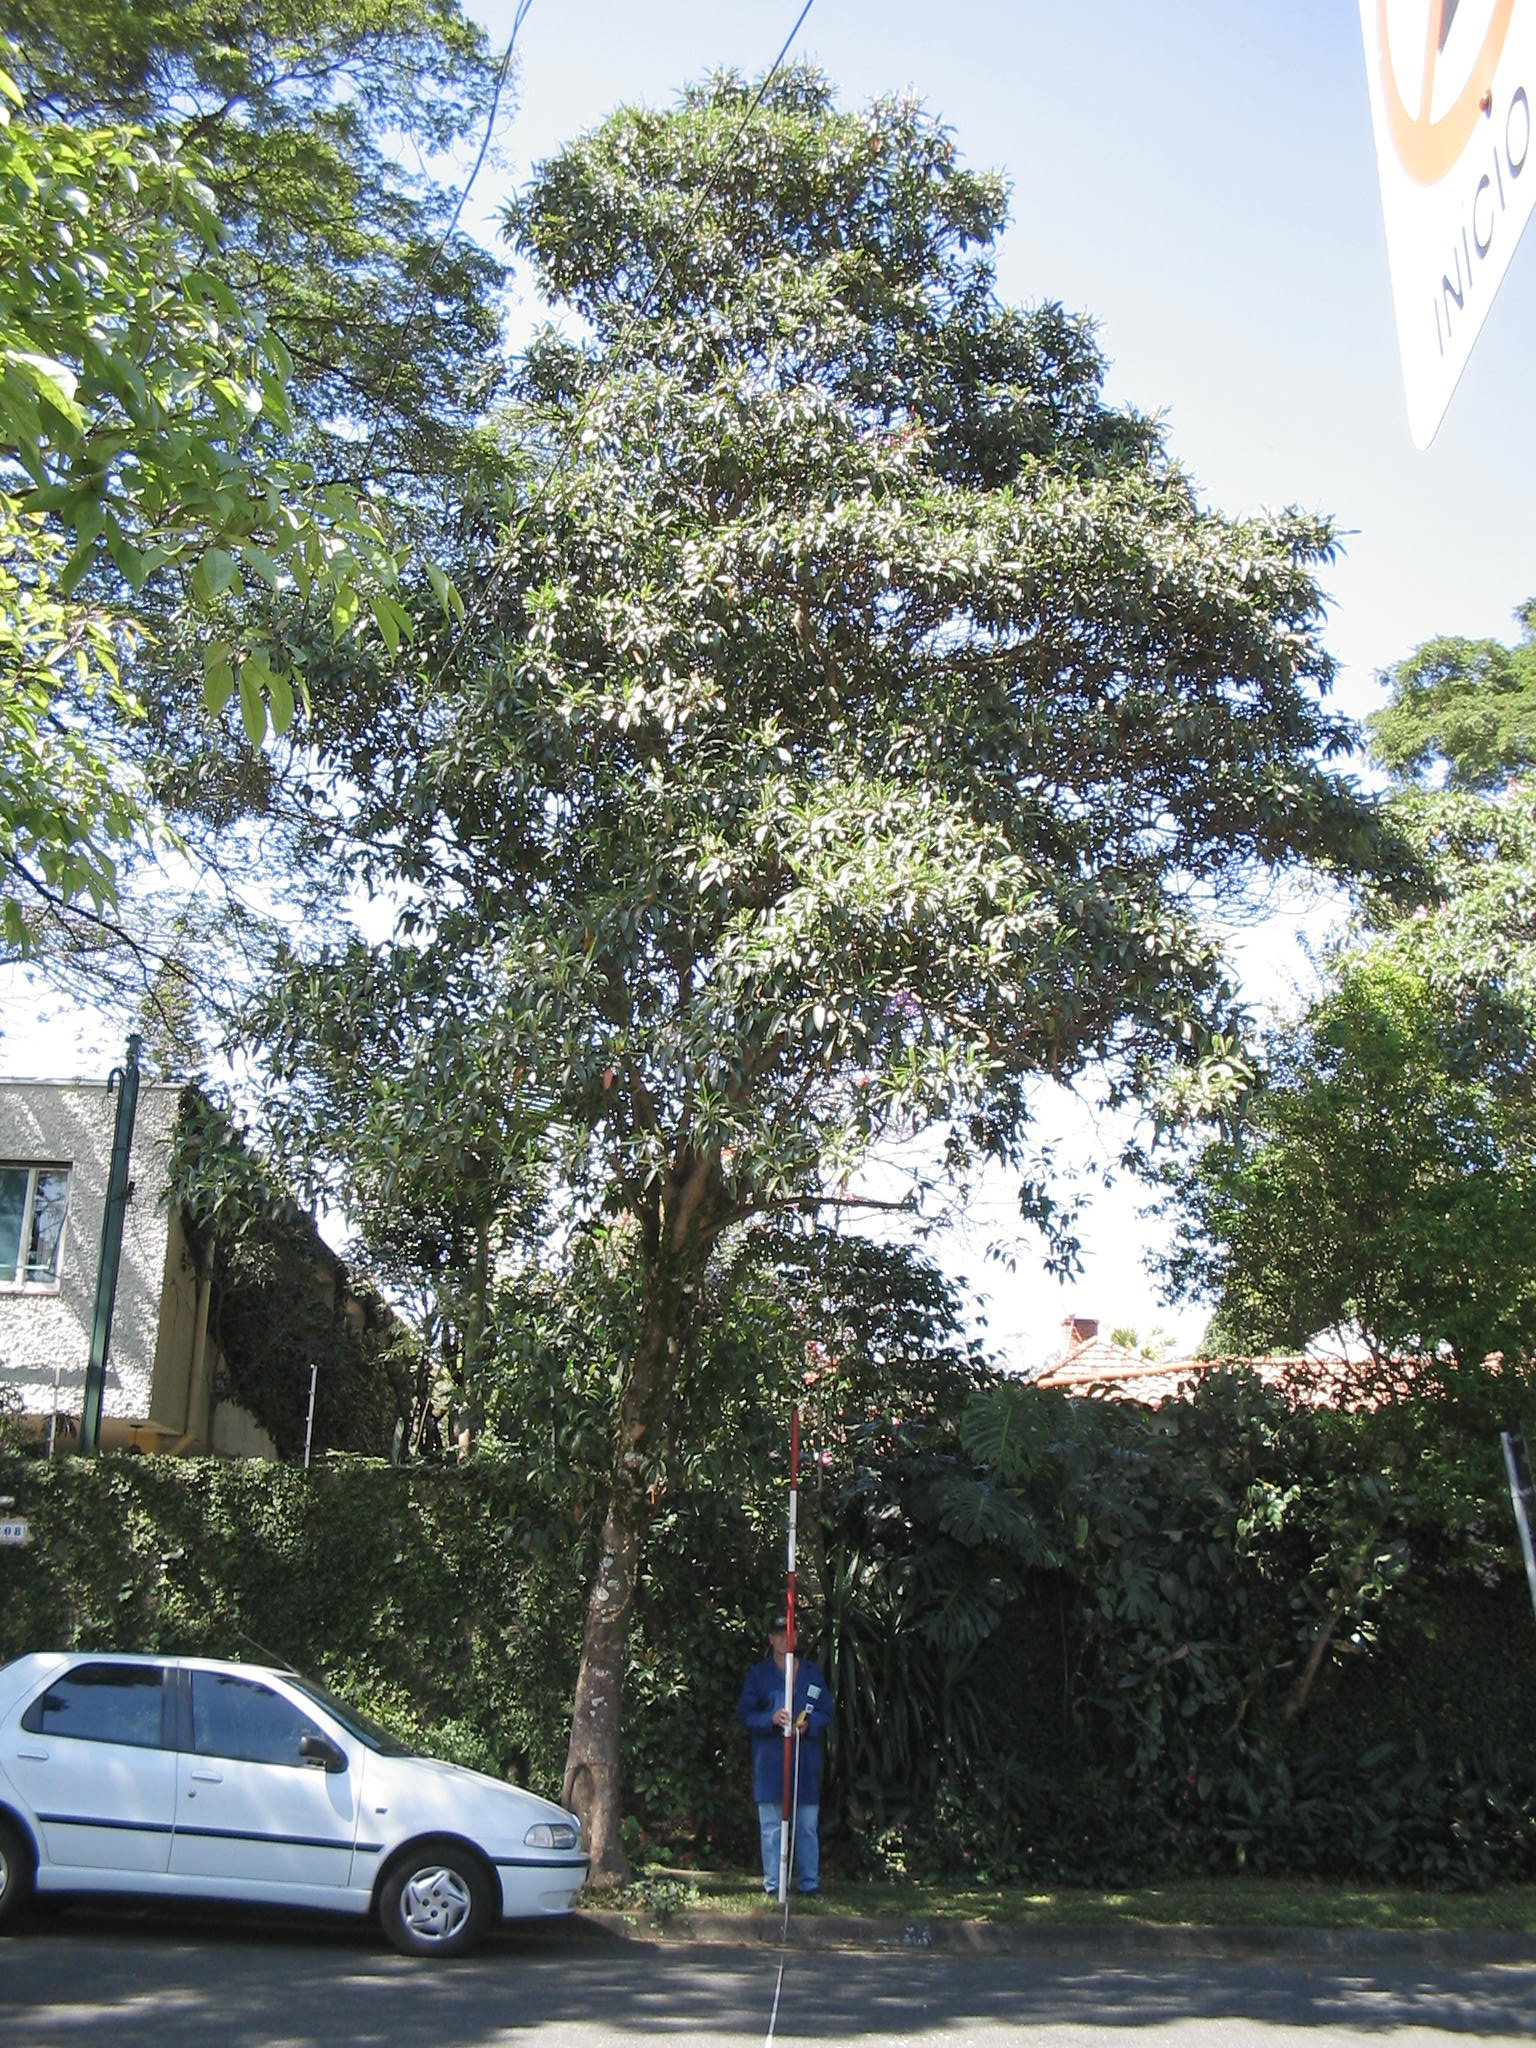crown: (195, 79, 1441, 1332)
stem: (529, 1226, 745, 1890)
stick: (750, 1403, 828, 1901)
tree: (181, 74, 1442, 1904)
